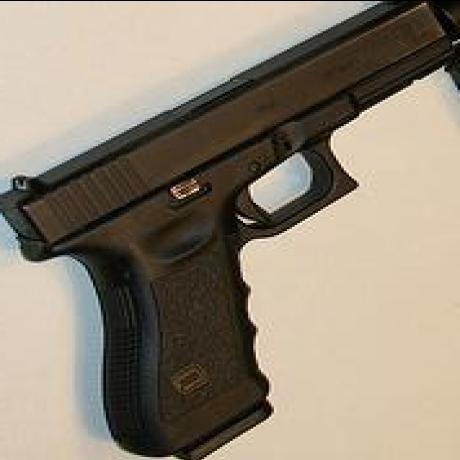weapon: (9, 0, 460, 452)
